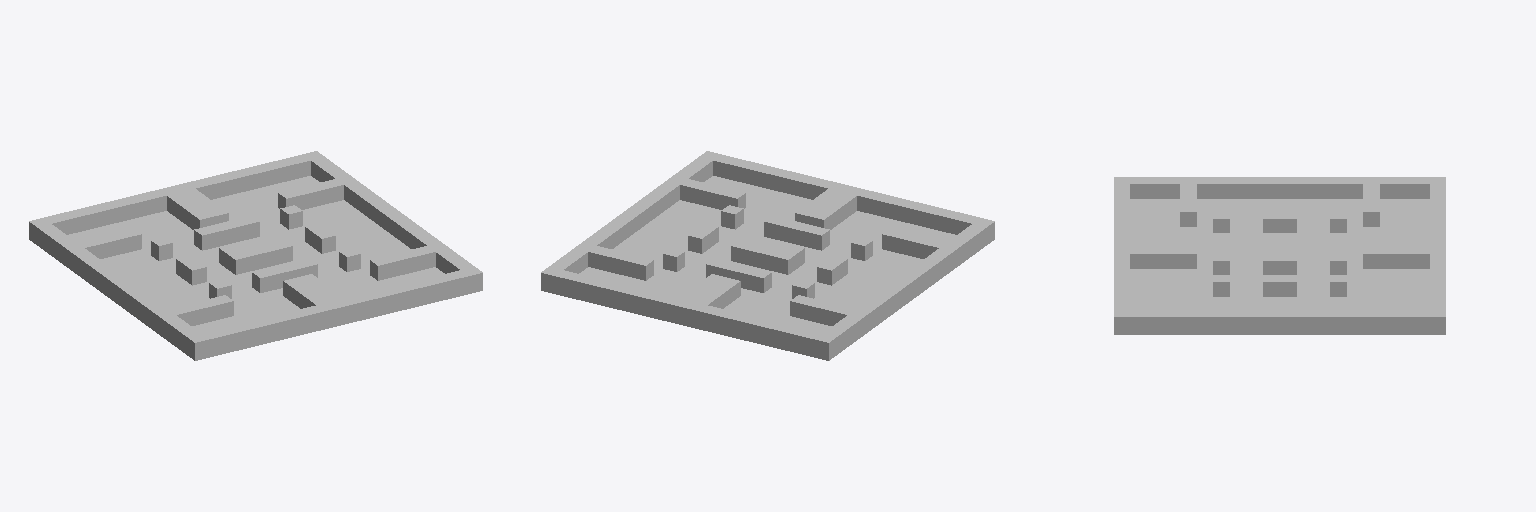
Rendered from maze.obj.
The picture shows the model from 3 angles: view 1: azimuth 30°, elevation 25°; view 2: azimuth 150°, elevation 25°; view 3: azimuth 270°, elevation 25°; orthographic projection.
Parts seen in each view (by area): view 1: Cube; view 2: Cube; view 3: Cube.
Part boxes in pixels (bbox=[...]): Cube: bbox=[29, 151, 482, 360]; Cube: bbox=[541, 151, 994, 360]; Cube: bbox=[1114, 177, 1445, 334].
Size of the model in its own units: 40 by 2.4 by 40.